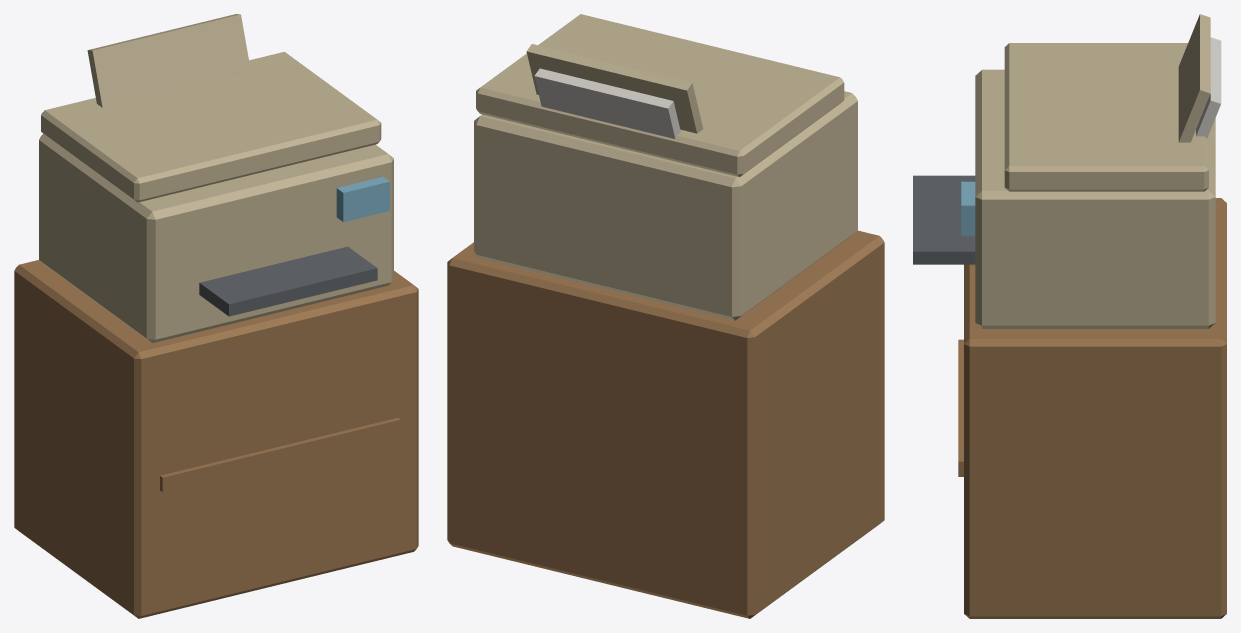
Rendered from printer-copier-02.glb.
3 views of the same model, side by side, from view 1: azimuth 30°, elevation 25°; view 2: azimuth 150°, elevation 25°; view 3: azimuth 270°, elevation 25° (orthographic). The views are drawn at different scales.
Parts seen in each view (by area): view 1: printer_copier_02; view 2: printer_copier_02; view 3: printer_copier_02.
Part boxes in pixels (x1=…): printer_copier_02: x1=14, y1=14, x2=418, y2=618; printer_copier_02: x1=447, y1=14, x2=884, y2=618; printer_copier_02: x1=913, y1=14, x2=1226, y2=618.
Bounding box in the file's own units: 0.6103 × 0.9682 × 0.5546.
